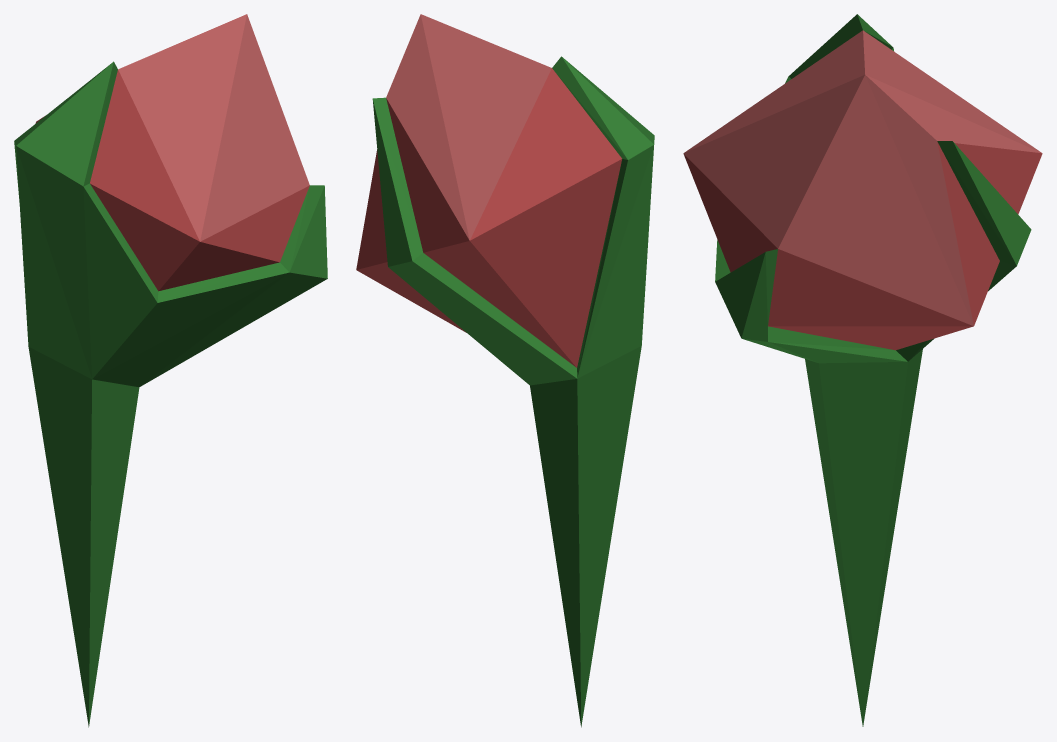
Rendered from Flower_01.FBX.
3 views of the same model, side by side, from view 1: azimuth 30°, elevation 25°; view 2: azimuth 150°, elevation 25°; view 3: azimuth 270°, elevation 25° (orthographic). The views are drawn at different scales.
Visible parts, largest first — view 1: Flower_01; view 2: Flower_01; view 3: Flower_01.
Part boxes in pixels (x1,y1,x2,y2): Flower_01: (14, 14, 327, 727); Flower_01: (356, 14, 654, 727); Flower_01: (683, 14, 1042, 726).
Bounding box in the file's own units: 0.5603 × 1.37 × 0.6026.
